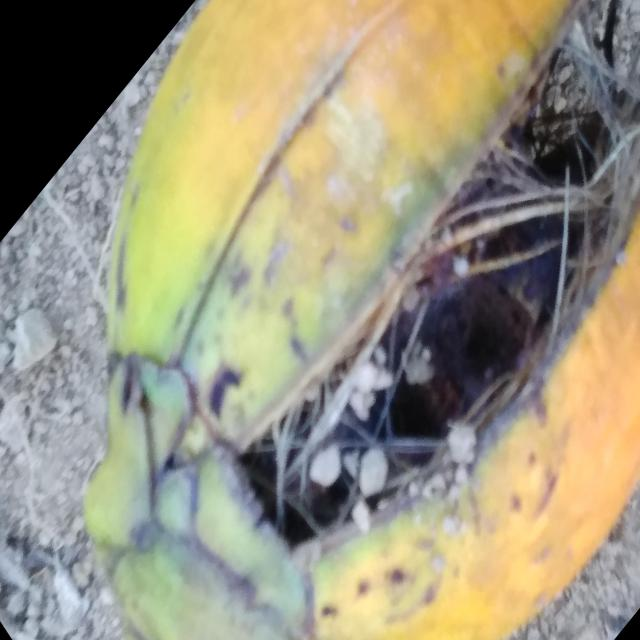damaged: (81, 2, 638, 640)
